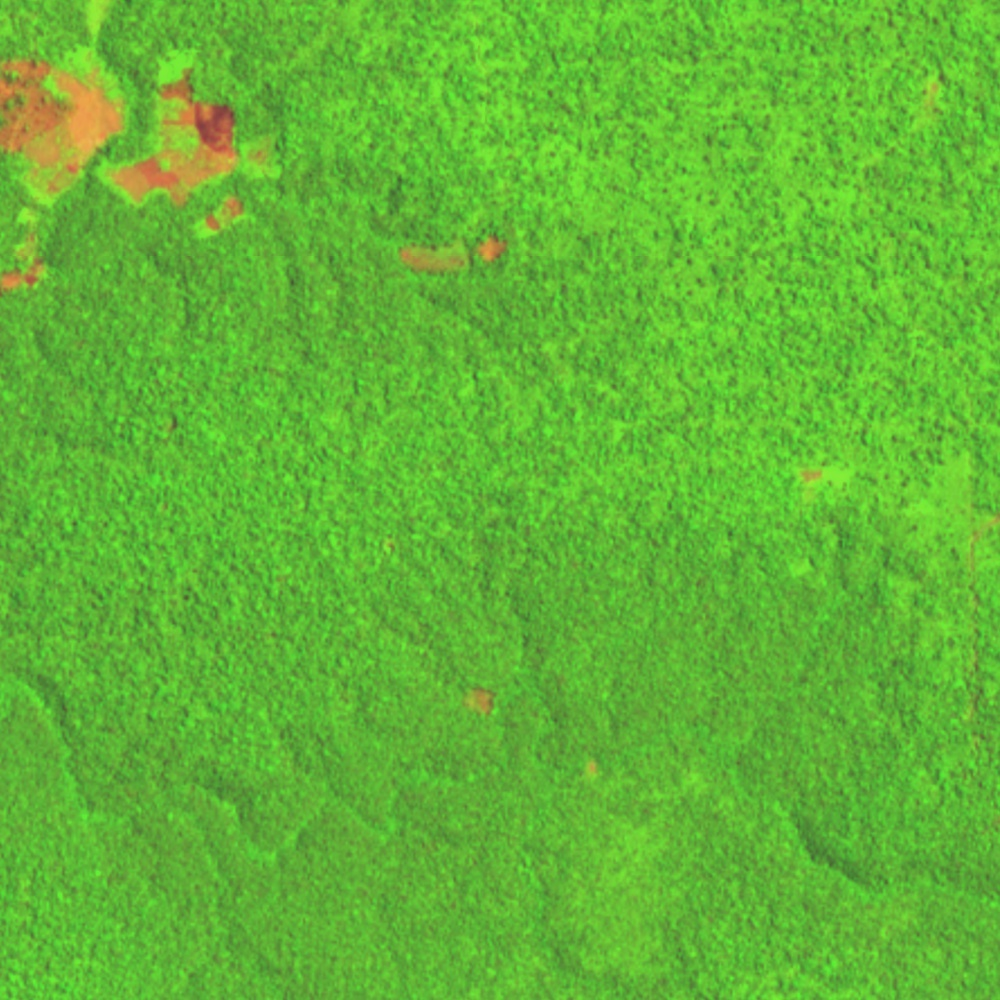legal: (103, 51, 283, 214), (1, 38, 130, 203), (396, 227, 514, 282), (1, 208, 53, 300), (187, 194, 253, 241), (798, 463, 854, 495), (920, 70, 950, 116), (461, 680, 496, 716), (583, 759, 602, 781)
